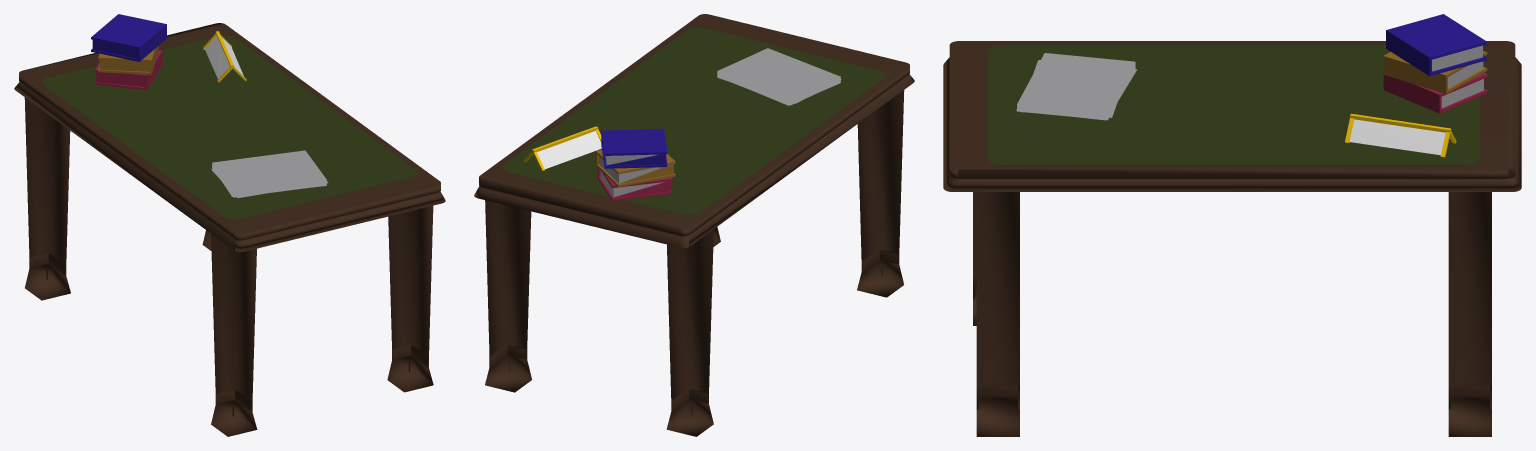
Rendered from bureau.glb.
3 renders of one model, left to right at view 1: azimuth 30°, elevation 25°; view 2: azimuth 150°, elevation 25°; view 3: azimuth 270°, elevation 25°, orthographic. The views are drawn at different scales.
Parts seen in each view (by area): view 1: bureau; view 2: bureau; view 3: bureau.
Part boxes in pixels (left/top/right/bottom): bureau: left=14, top=14, right=445, bottom=436; bureau: left=474, top=14, right=914, bottom=436; bureau: left=943, top=14, right=1521, bottom=436.
Size of the model in its own units: 0.7984 by 0.9178 by 1.49.
